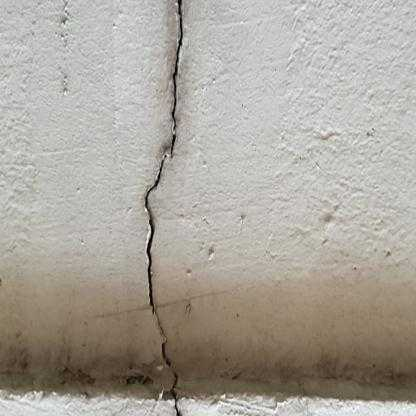crack: (145, 0, 183, 415)
